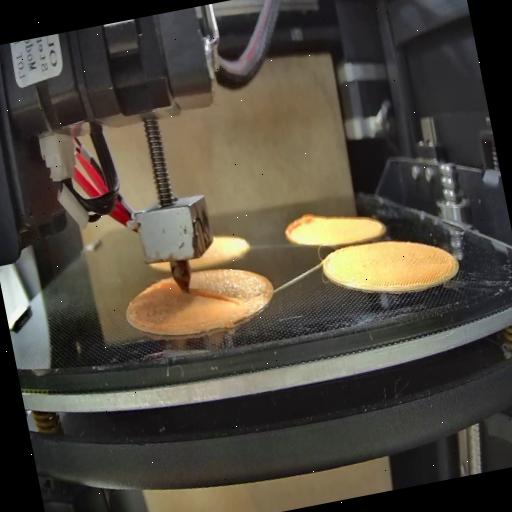over_extrusion: (187, 278, 246, 318), (280, 206, 324, 252)
